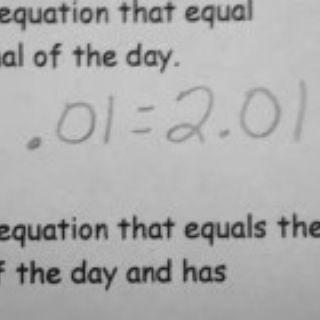.: (24, 129, 42, 150), (216, 127, 233, 140)
0: (239, 85, 281, 140), (55, 99, 96, 145)
1: (289, 74, 309, 142), (103, 90, 114, 145)
2: (164, 84, 216, 145)
